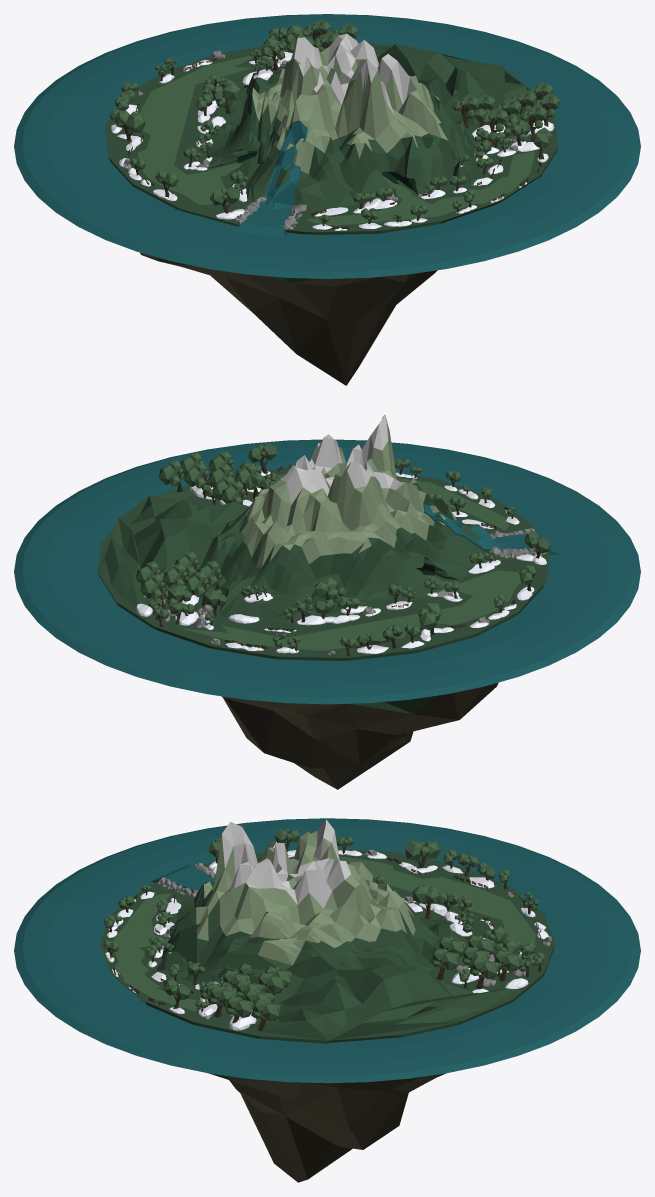
Rendered from landscape-snow.glb.
The picture shows the model from 3 angles, top to bottom: view 1: azimuth 30°, elevation 25°; view 2: azimuth 150°, elevation 25°; view 3: azimuth 270°, elevation 25°; orthographic projection.
Parts seen in each view (by area): view 1: water, terrain-grass, terrain-underground, leaf, terrain-under_cliff, terrain-road, snow, terrain-cliff, waterfall, tree-base, stone; view 2: water, terrain-grass, leaf, terrain-under_cliff, terrain-underground, terrain-road, snow, terrain-cliff, tree-base, waterfall, stone; view 3: water, terrain-grass, terrain-under_cliff, terrain-underground, leaf, terrain-road, terrain-cliff, snow, tree-base, stone, waterfall.
Boxes of the visible parts, x1,y1,x2,y2 form: water: [14, 14, 640, 278]; terrain-grass: [105, 42, 557, 283]; terrain-underground: [140, 252, 437, 385]; leaf: [109, 18, 559, 223]; terrain-under_cliff: [252, 41, 448, 174]; terrain-road: [138, 55, 535, 225]; snow: [111, 51, 554, 230]; terrain-cliff: [290, 33, 416, 115]; waterfall: [235, 120, 307, 237]; tree-base: [124, 30, 549, 225]; stone: [123, 50, 528, 229]; water: [14, 439, 640, 704]; terrain-grass: [97, 468, 549, 714]; leaf: [135, 443, 550, 648]; terrain-under_cliff: [241, 424, 456, 567]; terrain-underground: [221, 683, 496, 789]; terrain-road: [180, 474, 521, 650]; snow: [136, 471, 546, 653]; terrain-cliff: [280, 414, 405, 504]; tree-base: [154, 456, 540, 655]; waterfall: [422, 500, 559, 554]; stone: [160, 495, 547, 654]; water: [14, 818, 640, 1083]; terrain-grass: [100, 848, 554, 1080]; terrain-under_cliff: [196, 831, 415, 965]; terrain-underground: [229, 1073, 445, 1182]; leaf: [103, 829, 544, 1021]; terrain-road: [113, 856, 535, 1011]; terrain-cliff: [222, 819, 351, 908]; snow: [105, 850, 548, 1030]; tree-base: [108, 840, 541, 1031]; stone: [157, 850, 552, 1019]; waterfall: [151, 857, 261, 891].
Bounding box in the file's own units: 275 × 171 × 275.
